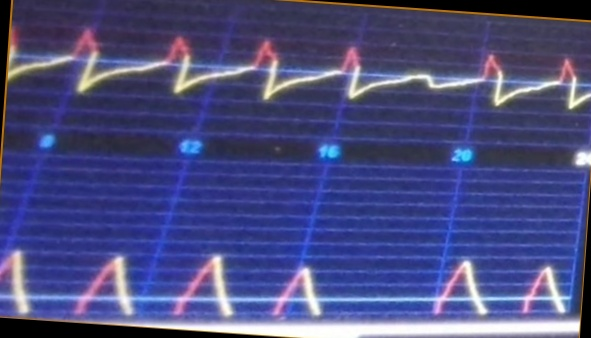Ineffective_effort Flow: (10, 25, 591, 118)
Ineffective_effort Volume: (1, 240, 566, 316)
